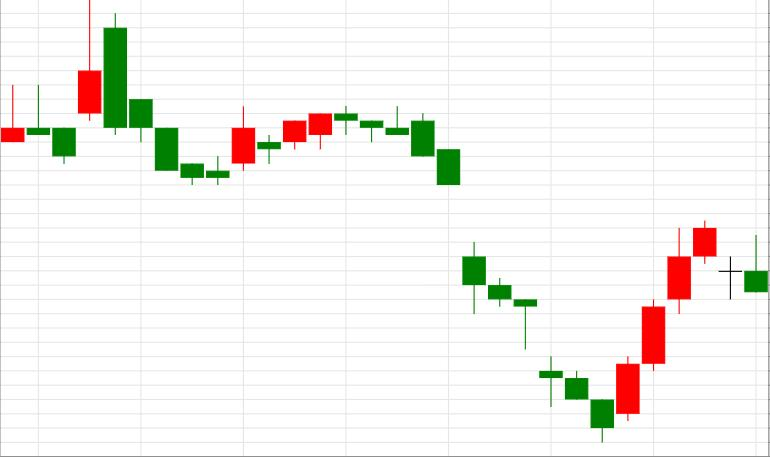three_white_soldiers_rise: (411, 112, 691, 443)
